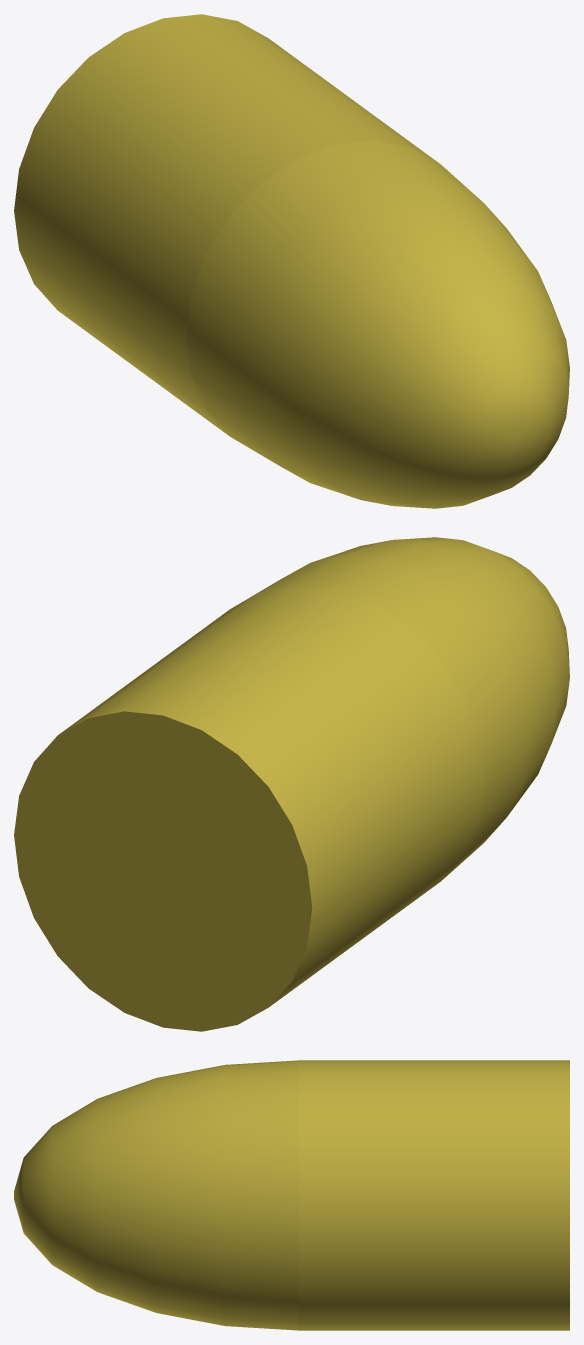
The model's file is bullet.fbx.
The picture shows the model from 3 angles, top to bottom: view 1: azimuth 30°, elevation 25°; view 2: azimuth 150°, elevation 25°; view 3: azimuth 270°, elevation 25°; orthographic projection. The views are drawn at different scales.
Parts seen in each view (by area): view 1: mergedBlocks; view 2: mergedBlocks; view 3: mergedBlocks.
Part boxes in pixels (x1,y1,x2,y2): mergedBlocks: [14, 14, 569, 508]; mergedBlocks: [14, 537, 569, 1031]; mergedBlocks: [14, 1060, 569, 1330].
Size of the model in its own units: 10 by 10 by 20.5.
